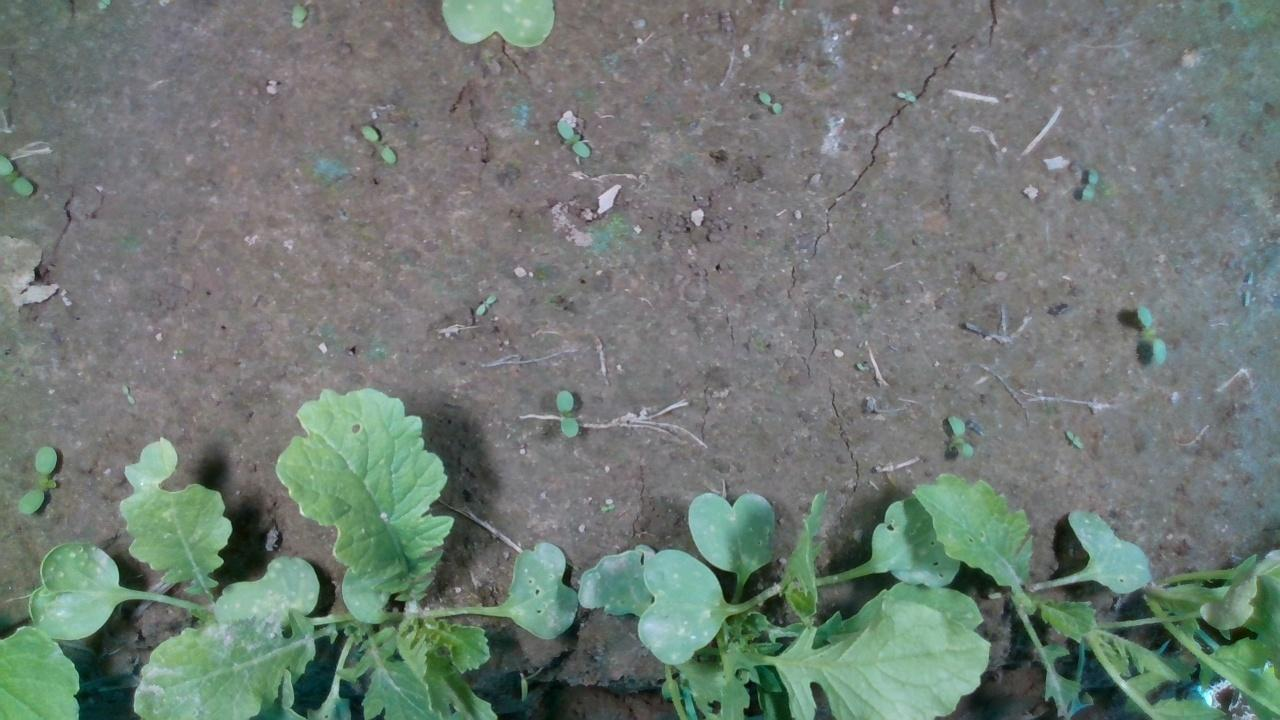weed: (15, 442, 58, 516), (1134, 302, 1166, 368), (357, 123, 398, 166), (553, 118, 591, 159), (943, 412, 974, 458), (552, 388, 579, 440), (756, 88, 782, 115), (1080, 166, 1098, 203), (474, 293, 497, 316), (1064, 429, 1084, 451), (893, 87, 917, 104), (119, 382, 135, 406)
